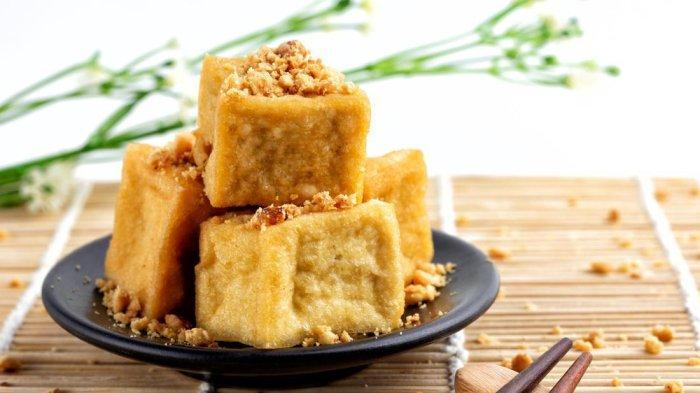kacang_legume: (205, 224, 378, 333), (212, 59, 332, 194), (122, 164, 186, 293), (374, 170, 419, 204)
